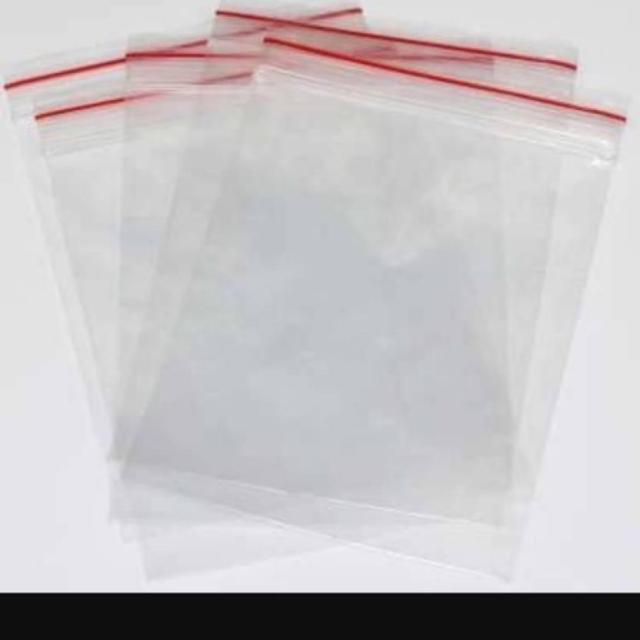plastic_bag: (21, 33, 609, 570)
